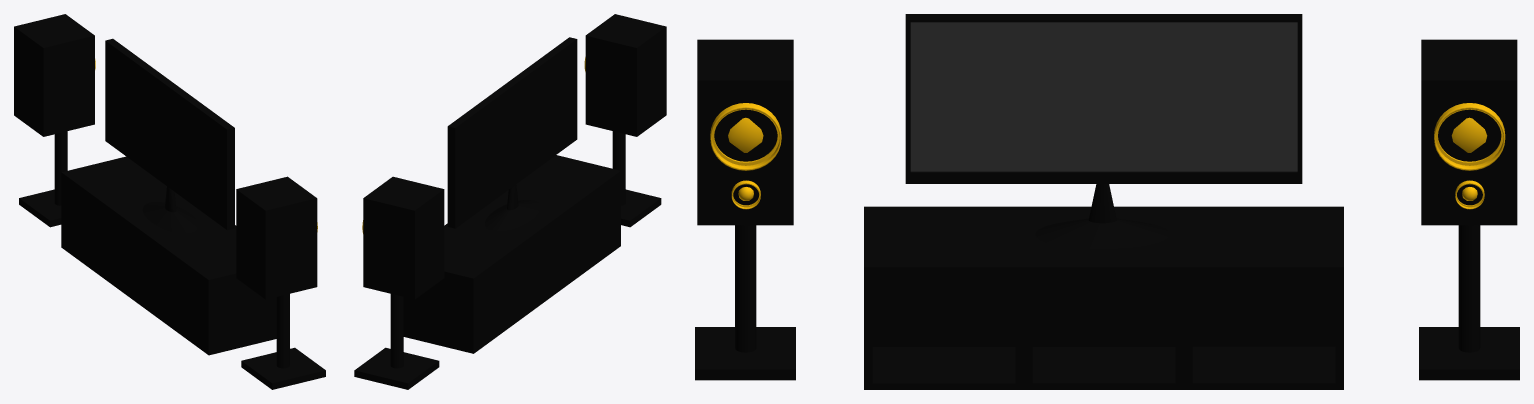
Rendered from TVandSpeakers.glb.
3 views of the same model, side by side, from view 1: azimuth 30°, elevation 25°; view 2: azimuth 150°, elevation 25°; view 3: azimuth 270°, elevation 25° (orthographic). The views are drawn at different scales.
Visible parts, largest first — view 1: EntertainmentCenter, Television, LivingRoomSpeaker1, LivingRoomSpeaker2; view 2: EntertainmentCenter, Television, LivingRoomSpeaker2, LivingRoomSpeaker1; view 3: EntertainmentCenter, Television, LivingRoomSpeaker2, LivingRoomSpeaker1.
Part boxes in pixels (x1=…): EntertainmentCenter: x1=61, y1=156, x2=276, y2=355; Television: x1=105, y1=38, x2=234, y2=233; LivingRoomSpeaker1: x1=236, y1=176, x2=325, y2=389; LivingRoomSpeaker2: x1=14, y1=14, x2=95, y2=227; EntertainmentCenter: x1=403, y1=155, x2=620, y2=353; Television: x1=447, y1=37, x2=577, y2=231; LivingRoomSpeaker2: x1=354, y1=176, x2=444, y2=389; LivingRoomSpeaker1: x1=584, y1=14, x2=666, y2=227; EntertainmentCenter: x1=864, y1=206, x2=1343, y2=389; Television: x1=905, y1=14, x2=1302, y2=249; LivingRoomSpeaker2: x1=1419, y1=39, x2=1519, y2=380; LivingRoomSpeaker1: x1=695, y1=39, x2=795, y2=380.
Bounding box in the file's own units: 0.598 × 1.56 × 3.44.
